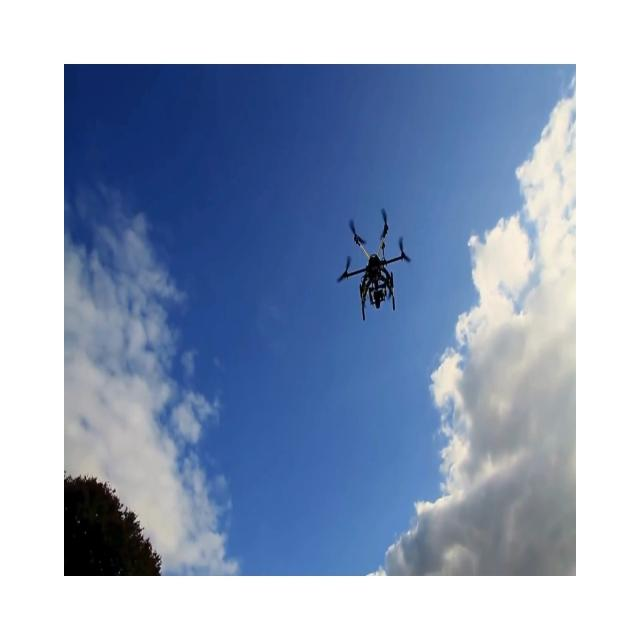drone: (336, 207, 411, 321)
